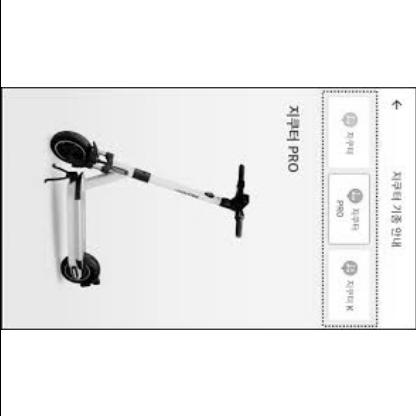bike: (44, 130, 250, 289)
